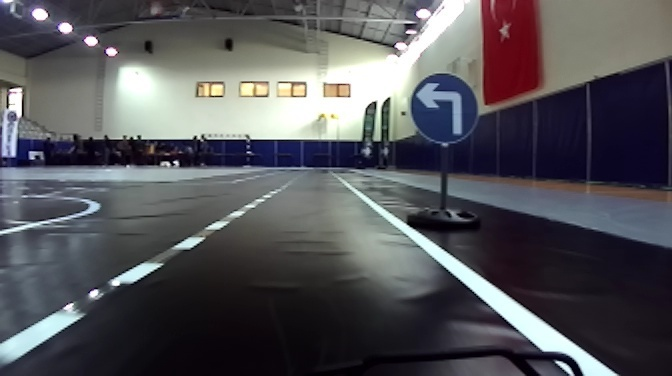sola_donus: (410, 73, 479, 144)
